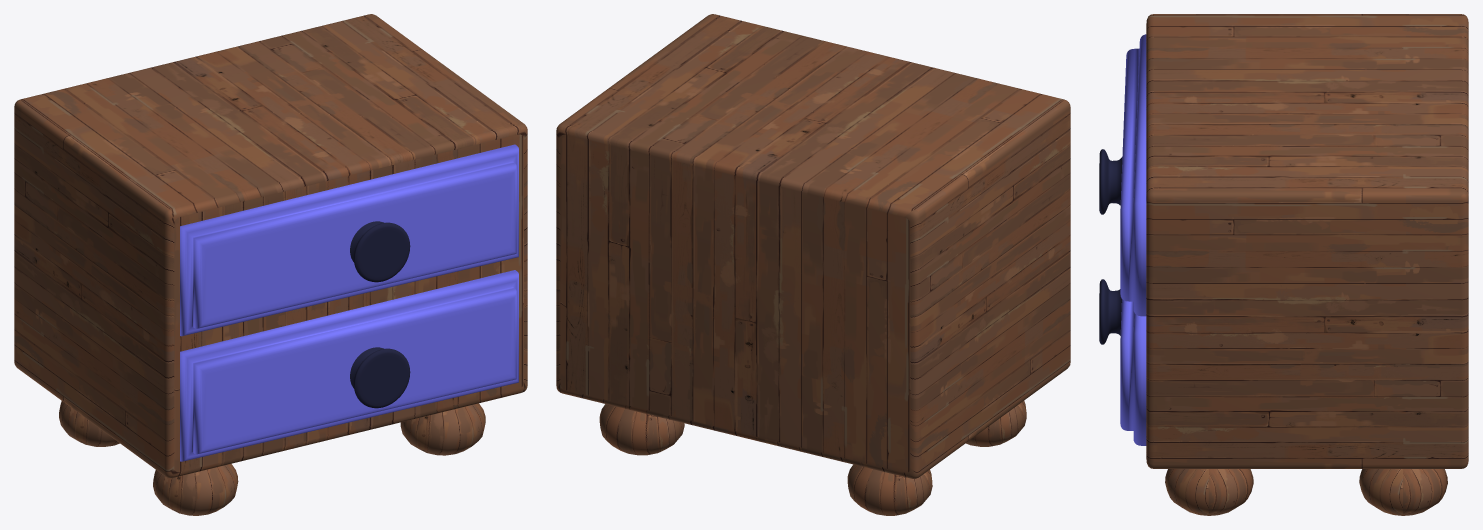
Rendered from gabinete 1.fbx.
3 views of the same model, side by side, from view 1: azimuth 30°, elevation 25°; view 2: azimuth 150°, elevation 25°; view 3: azimuth 270°, elevation 25° (orthographic). The views are drawn at different scales.
Visible parts, largest first — view 1: gabinete 1; view 2: gabinete 1; view 3: gabinete 1.
Boxes of the visible parts, <box> form: gabinete 1: <box>14,14,527,515</box>; gabinete 1: <box>556,14,1070,515</box>; gabinete 1: <box>1099,14,1468,515</box>.
Bounding box in the file's own units: 180 × 159 × 154.
3 materials, 1 textured.
